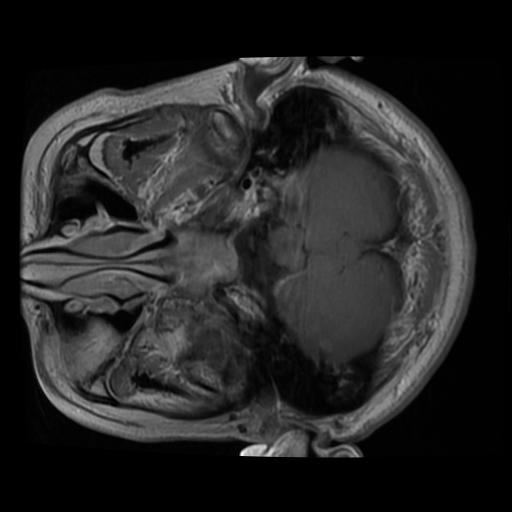pituitary tumour: (173, 232, 236, 298)
